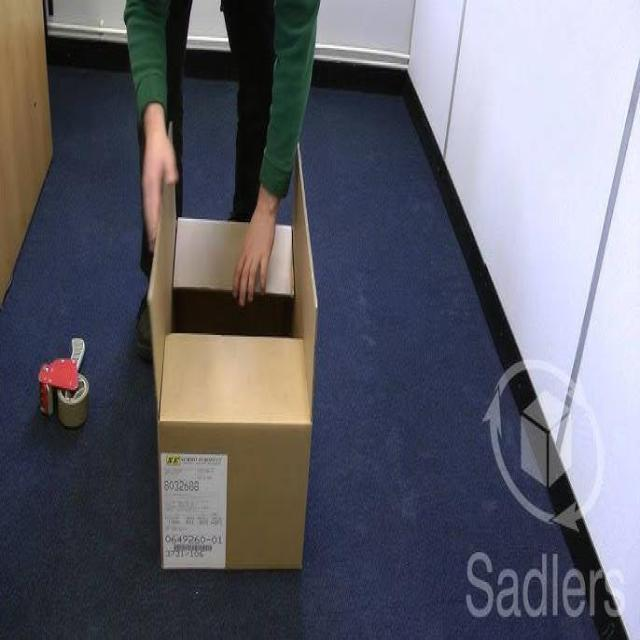cardboard: (146, 121, 318, 572)
